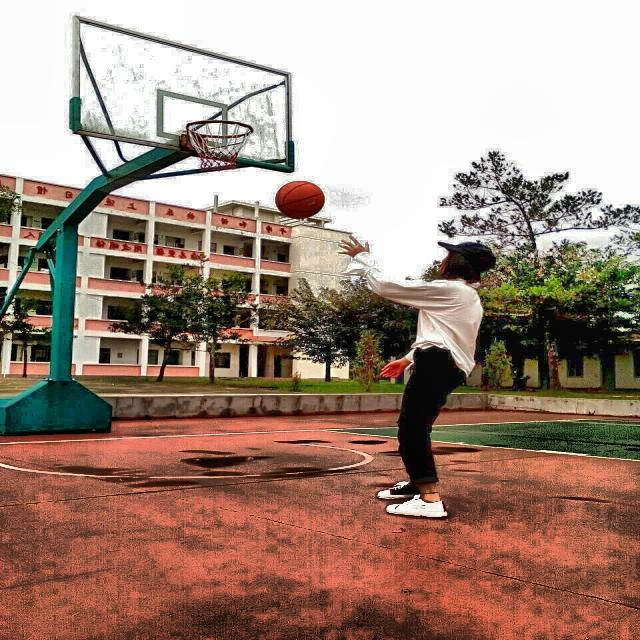board: (275, 181, 325, 219)
rim: (185, 118, 252, 169)
